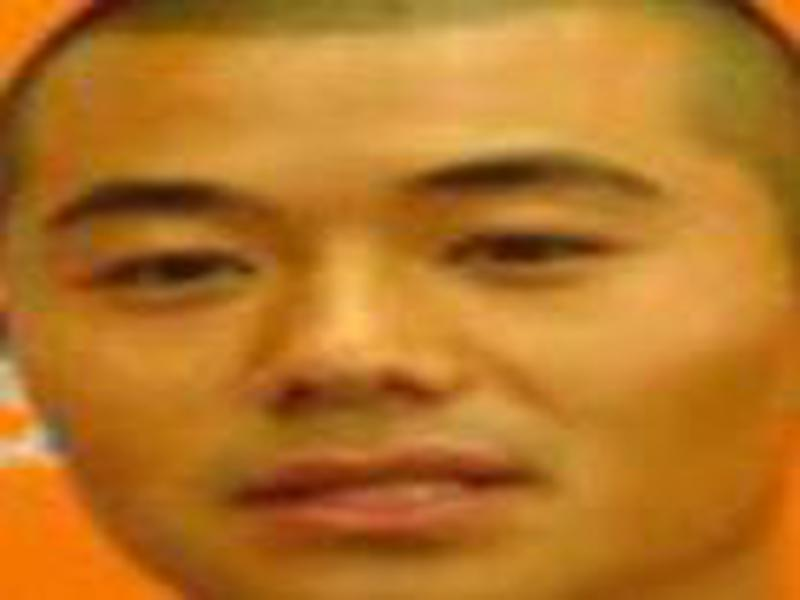without_mask: (16, 31, 791, 595)
